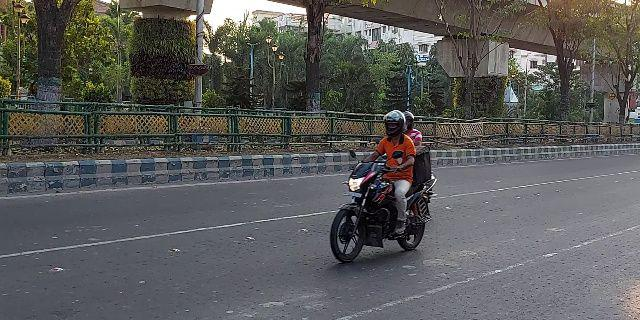Motorbike: (326, 106, 439, 266)
